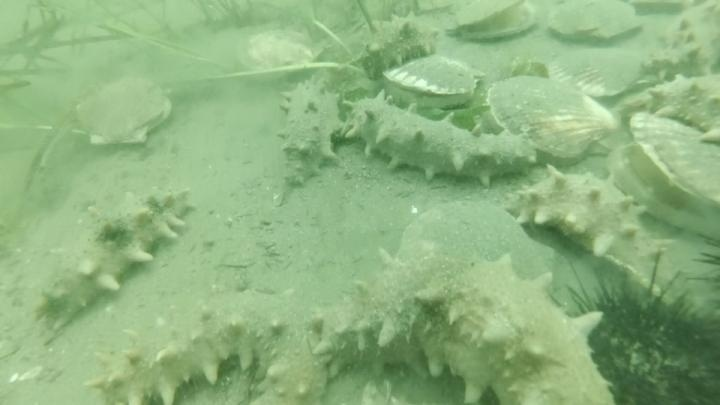echinus: (554, 254, 720, 403)
holothurian: (307, 244, 617, 405), (86, 287, 343, 405), (31, 181, 197, 335), (504, 164, 662, 291), (339, 92, 543, 189), (275, 76, 346, 190), (635, 3, 719, 87), (351, 10, 442, 79), (643, 68, 720, 148), (203, 1, 322, 38)
scallop: (392, 197, 555, 289), (480, 71, 619, 172), (611, 110, 720, 236), (71, 74, 175, 151), (378, 52, 486, 114), (550, 43, 657, 103), (234, 25, 324, 86), (541, 1, 645, 51), (443, 1, 541, 47)
